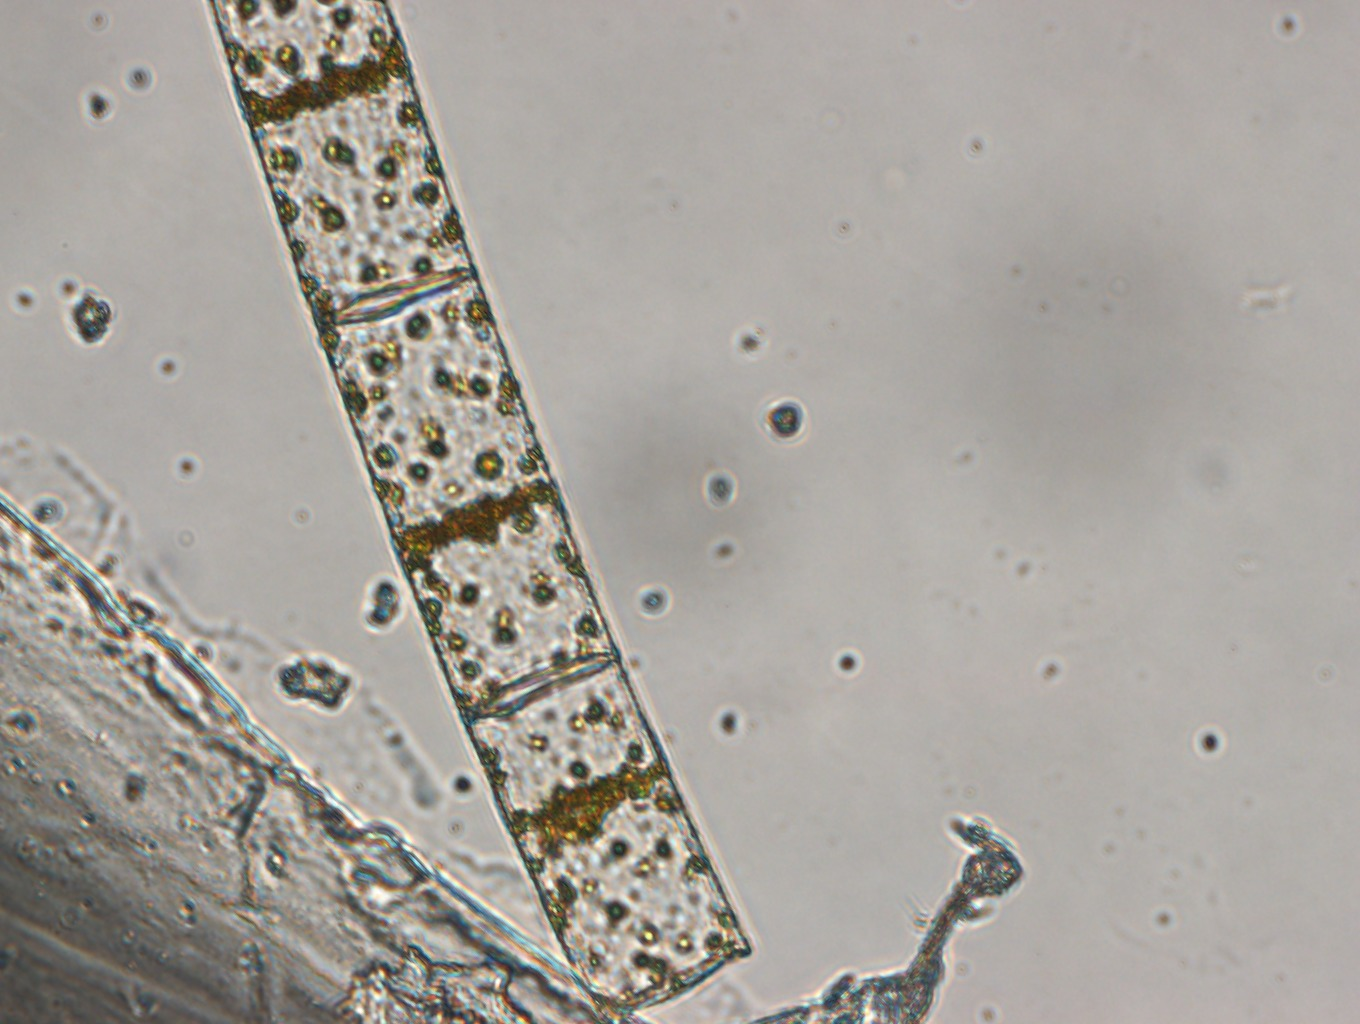guinardia flaccida: (210, 1, 750, 1016)
